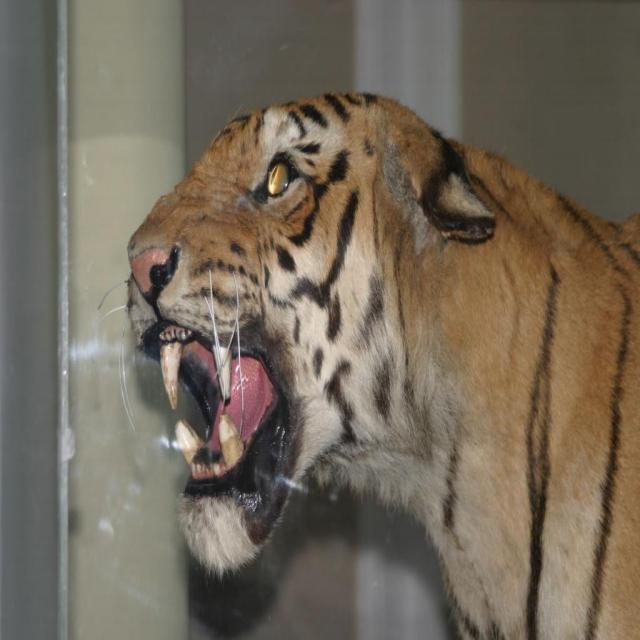Tiger: (96, 86, 640, 639)
